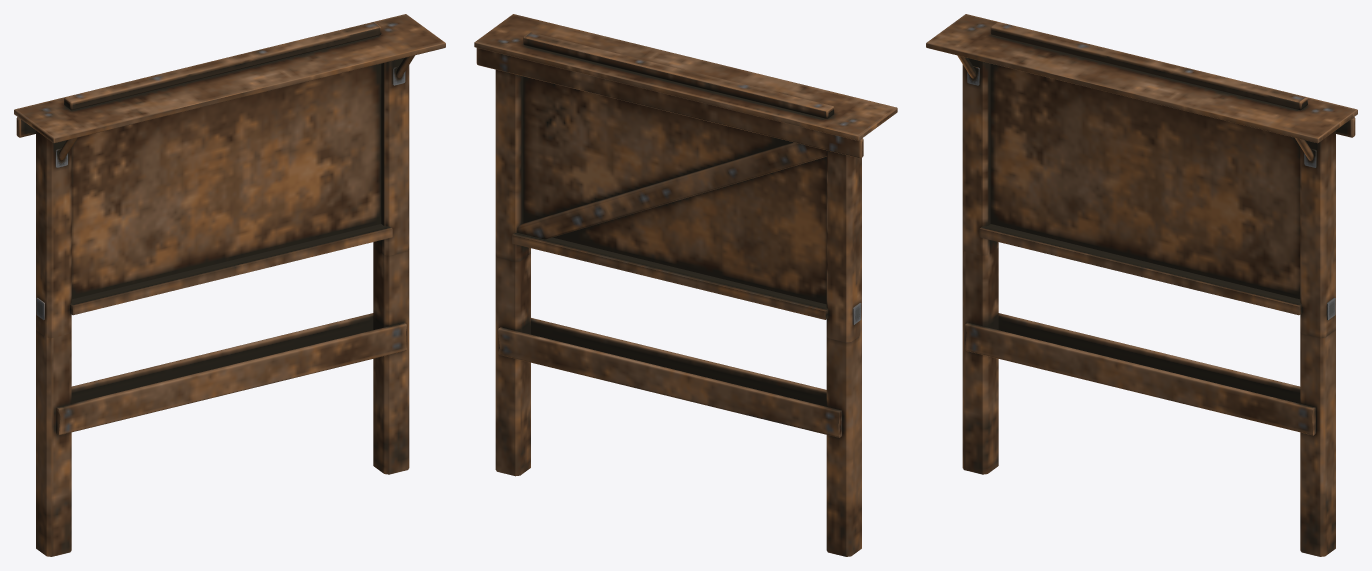
Rendered from board.gltf.
3 views of the same model, side by side, from view 1: azimuth 30°, elevation 25°; view 2: azimuth 150°, elevation 25°; view 3: azimuth 330°, elevation 25° (orthographic).
Parts seen in each view (by area): view 1: Symmetry_5; view 2: Symmetry_5; view 3: Symmetry_5.
Boxes of the visible parts, left/top/right/bottom form: Symmetry_5: left=14, top=14, right=445, bottom=556; Symmetry_5: left=474, top=14, right=897, bottom=556; Symmetry_5: left=926, top=14, right=1357, bottom=556.
Size of the model in its own units: 2.35 by 2.55 by 0.4145.
Materials: 1 (1 with a texture image).
